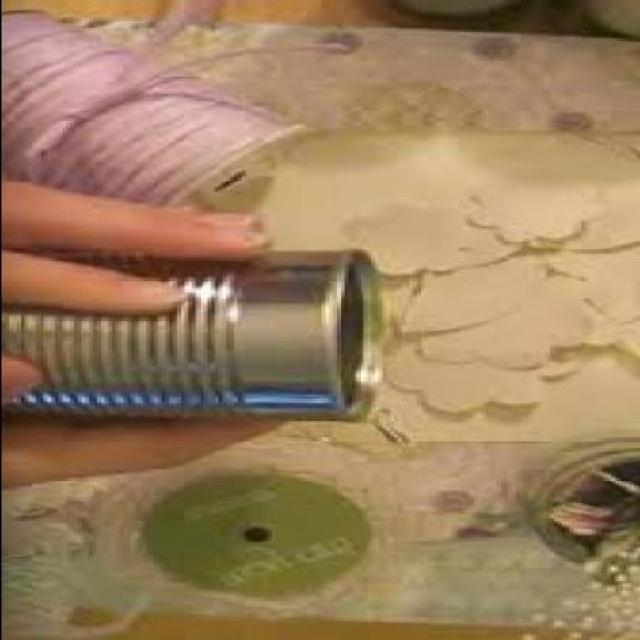METAL: (4, 252, 388, 425)
